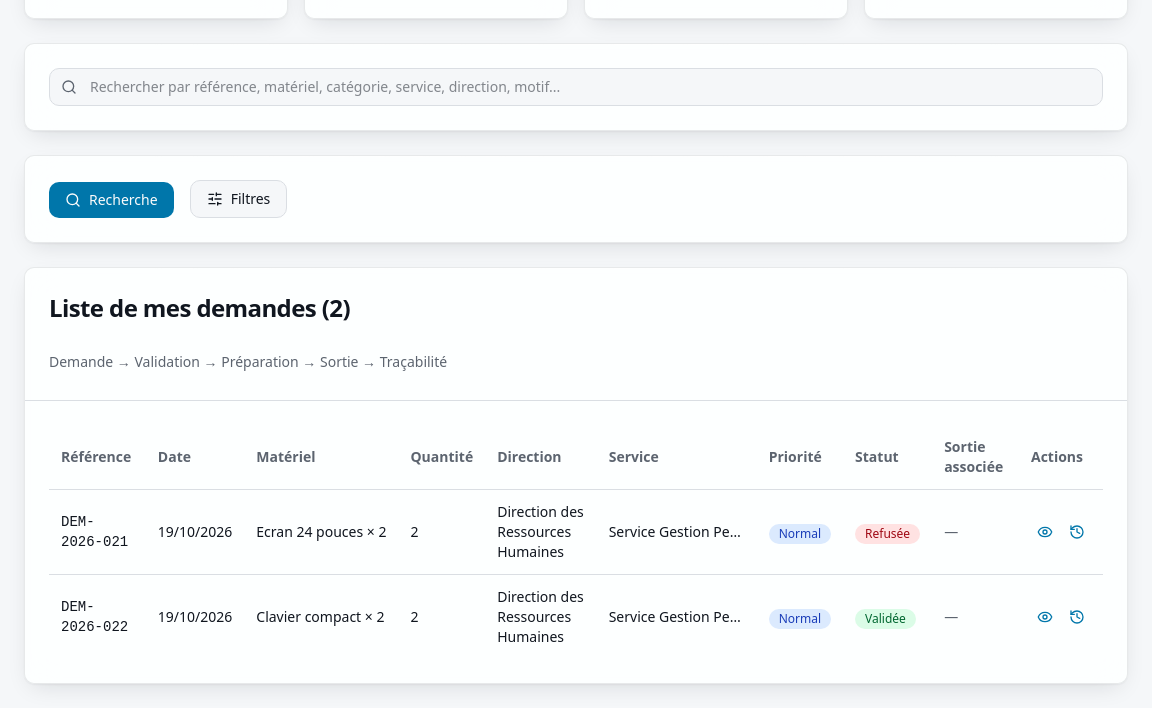
Scenario: MyRequests — le demandeur voit la décision du Dépositaire › affiche la quantité APPROUVÉE et la quantité DEMANDÉE si elles diffèrent
(page scrolled)
expect the text "DEM-2026-022" is shown: met, box [49, 574, 146, 659]
Click the button titled "Voir le suivi" in the row of "DEM-2026-022". click: (1045, 617)
box: [1031, 603, 1059, 631]
(page scrolled)
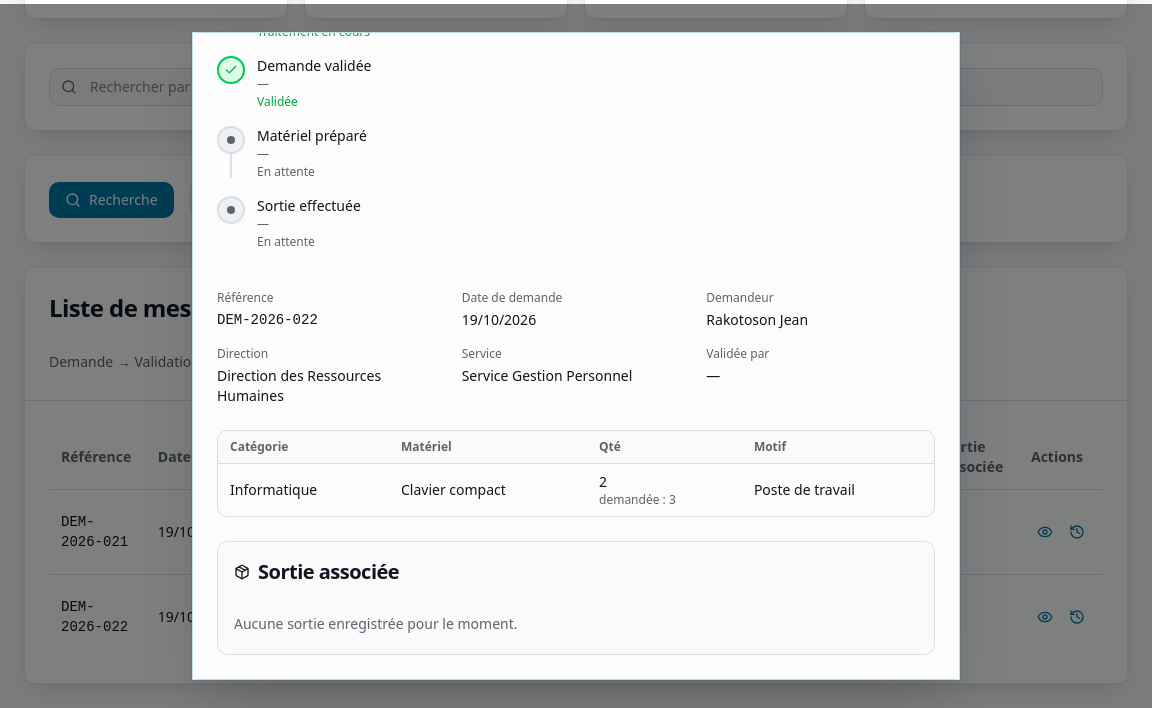
expect the text "DEM-2026-022" is shown: met, box [49, 574, 146, 659]
expect the text "demandée : 3" is shown: met, box [599, 491, 676, 508]
